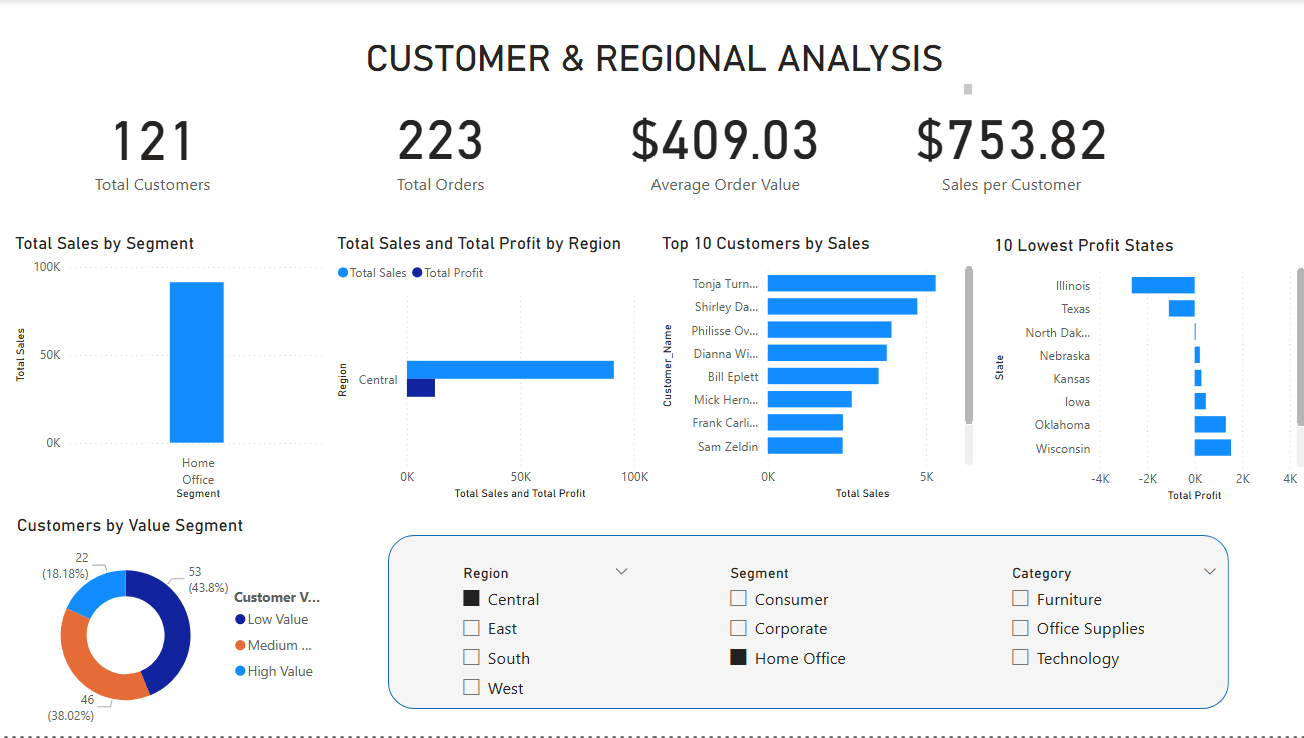

The dashboard page shown, as its layout file describes it:
{"tool":"powerbi","page":{"name":"Customer & Regional Analysis","canvas":[1280,720],"ordinal":2},"visuals":[{"type":"card","fields":{"Values":["Superstore.Total Customers"]},"box":[10.7,67.4,278.7,151.6],"z":0},{"type":"card","fields":{"Values":["Superstore.Total Orders"]},"box":[290.9,67.4,278.7,150],"z":1000},{"type":"card","fields":{"Values":["Superstore.Average Order Value"]},"box":[569.6,67.4,278.7,150],"z":2000},{"type":"card","fields":{"Values":["Superstore.Sales per Customer"]},"box":[848.2,67.4,278.7,150],"z":3000},{"type":"textbox","title":"CUSTOMER & REGIONAL ANALYSIS","box":[324.6,36.7,629.3,61.2],"z":4000},{"type":"columnChart","fields":{"Category":["Superstore.Segment"],"Y":["Superstore.Total Sales"]},"box":[10.7,229.1,313.9,264.9],"z":5000},{"type":"clusteredBarChart","fields":{"Category":["Superstore.Region"],"Y":["Superstore.Total Sales","Superstore.Total Profit"]},"box":[324.6,229.1,313.9,264.9],"z":6000},{"type":"barChart","title":"Top 10 Customers by Sales","fields":{"Category":["Superstore.Customer_Name"],"Y":["Superstore.Total Sales"]},"box":[640,229.1,313.9,264.9],"z":7000},{"type":"barChart","title":"10 Lowest Profit States","fields":{"Category":["Superstore.State"],"Y":["Superstore.Total Profit"]},"box":[966.1,229.7,313.9,264.9],"z":8000},{"type":"donutChart","title":"Customers by Value Segment","fields":{"Category":["Superstore.Customer Value Segment"],"Y":["Superstore.Total Customers"]},"box":[11,504,314,216],"z":9000},{"type":"shape","box":[379.7,523.6,820.7,170],"z":10000},{"type":"slicer","fields":{"Values":["Superstore.Region"]},"box":[439.4,547.4,186.8,147],"z":11000},{"type":"slicer","fields":{"Values":["Superstore.Segment"]},"box":[699.7,547.4,245,147],"z":12000},{"type":"slicer","fields":{"Values":["Superstore.Category"]},"box":[975.3,547.4,225.1,147],"z":13000}]}

Visuals, with their boxes in screenshot pixels (x1, y1, x2, y2), scaled from the page's 1280x720 canvas onto the 1304x738 screenshot:
card - Superstore.Total Customers: {"left": 11, "top": 69, "right": 295, "bottom": 224}
card - Superstore.Total Orders: {"left": 296, "top": 69, "right": 580, "bottom": 223}
card - Superstore.Average Order Value: {"left": 580, "top": 69, "right": 864, "bottom": 223}
card - Superstore.Sales per Customer: {"left": 864, "top": 69, "right": 1148, "bottom": 223}
"CUSTOMER & REGIONAL ANALYSIS" textbox: {"left": 331, "top": 38, "right": 972, "bottom": 100}
columnChart - Superstore.Segment x Superstore.Total Sales: {"left": 11, "top": 235, "right": 331, "bottom": 506}
clusteredBarChart - Superstore.Region x Superstore.Total Sales: {"left": 331, "top": 235, "right": 650, "bottom": 506}
"Top 10 Customers by Sales" barChart: {"left": 652, "top": 235, "right": 972, "bottom": 506}
"10 Lowest Profit States" barChart: {"left": 984, "top": 235, "right": 1303, "bottom": 507}
"Customers by Value Segment" donutChart: {"left": 11, "top": 517, "right": 331, "bottom": 737}
shape: {"left": 387, "top": 537, "right": 1223, "bottom": 711}
slicer - Superstore.Region: {"left": 448, "top": 561, "right": 638, "bottom": 712}
slicer - Superstore.Segment: {"left": 713, "top": 561, "right": 962, "bottom": 712}
slicer - Superstore.Category: {"left": 994, "top": 561, "right": 1223, "bottom": 712}
